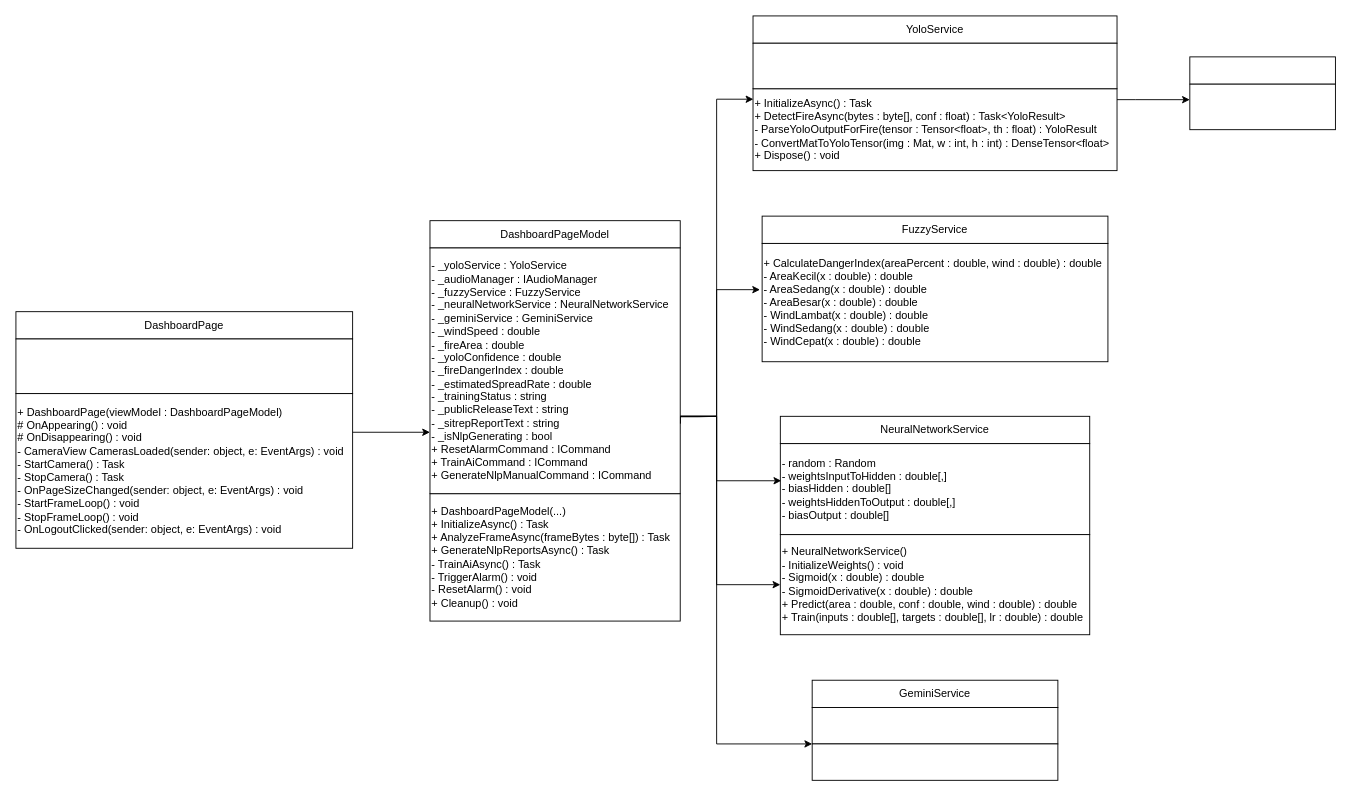
Some shapes in this 1351 by 796 pixel diagram are drawn without their labels. The shapes that lost their labels are listed below. From the top down, each one's centre as x and y in pixels, then its label:
At point 934,65: "- _yoloSession : InferenceSession - _isInitialized : bool".
At point 1262,70: "YoloResult".
At point 1262,106: "+ IsDetected : bool + Confidence : float + FireAreaPercentage : float".
At point 184,366: "- viewModel : DashboardPageModel - isFrameLoopActive : bool".
At point 934,725: "- httpClient : HttpClient - ApiKey : string".
At point 934,761: "+ GeminiService() + GenerateReportsAsync(area: double, ... ) : Task".
